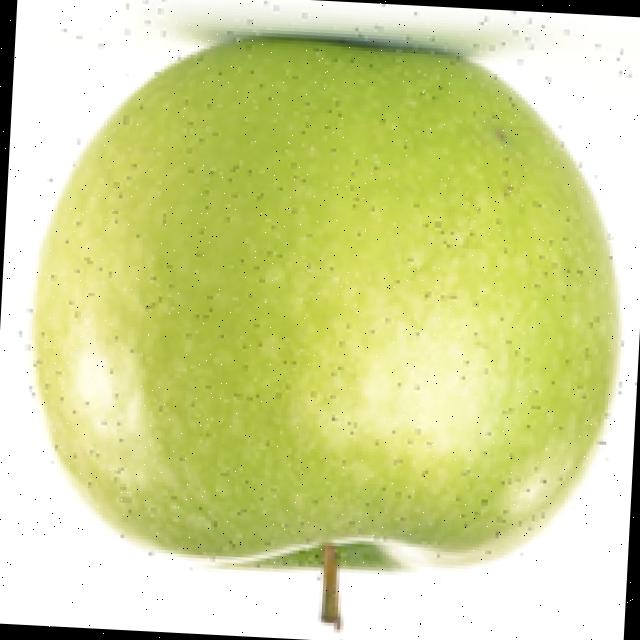apple: (15, 0, 627, 640)
